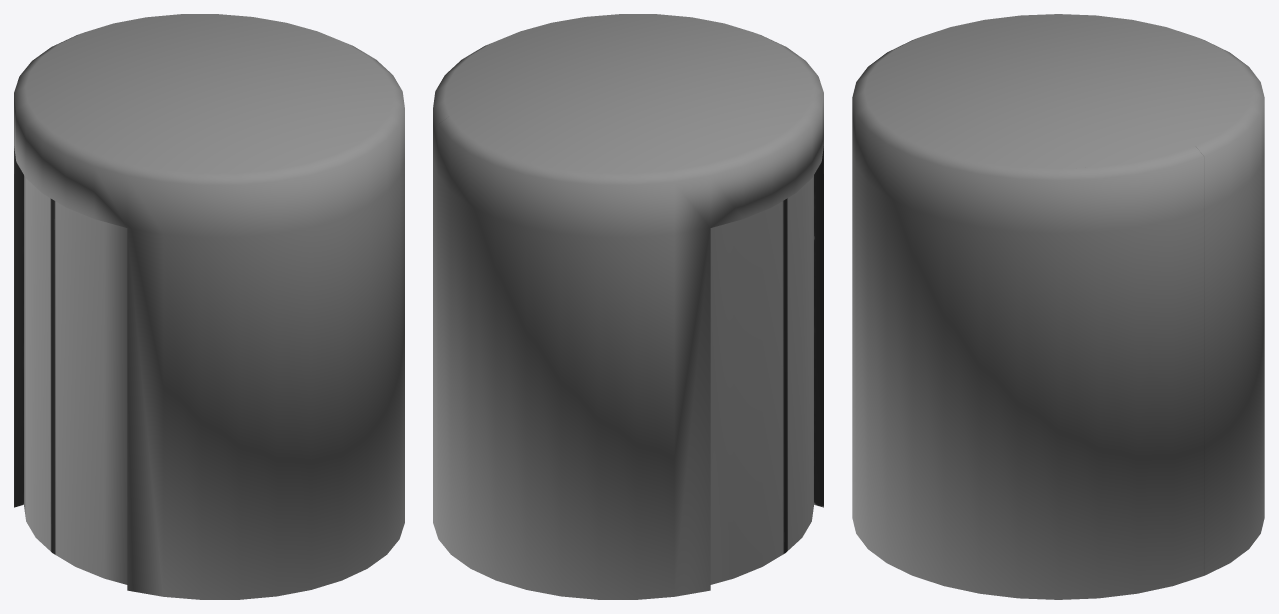
The model's file is elevator.glb.
3 views of the same model, side by side, from view 1: azimuth 30°, elevation 25°; view 2: azimuth 150°, elevation 25°; view 3: azimuth 270°, elevation 25° (orthographic).
Visible parts, largest first — view 1: Cylinder; view 2: Cylinder; view 3: Cylinder.
Part boxes in pixels (box(x1,y1,x2,y2)): Cylinder: box(14, 14, 404, 599); Cylinder: box(433, 14, 823, 599); Cylinder: box(852, 14, 1264, 599).
Bounding box in the file's own units: 2.13 × 2.56 × 2.25.
1 material, 1 textured.
